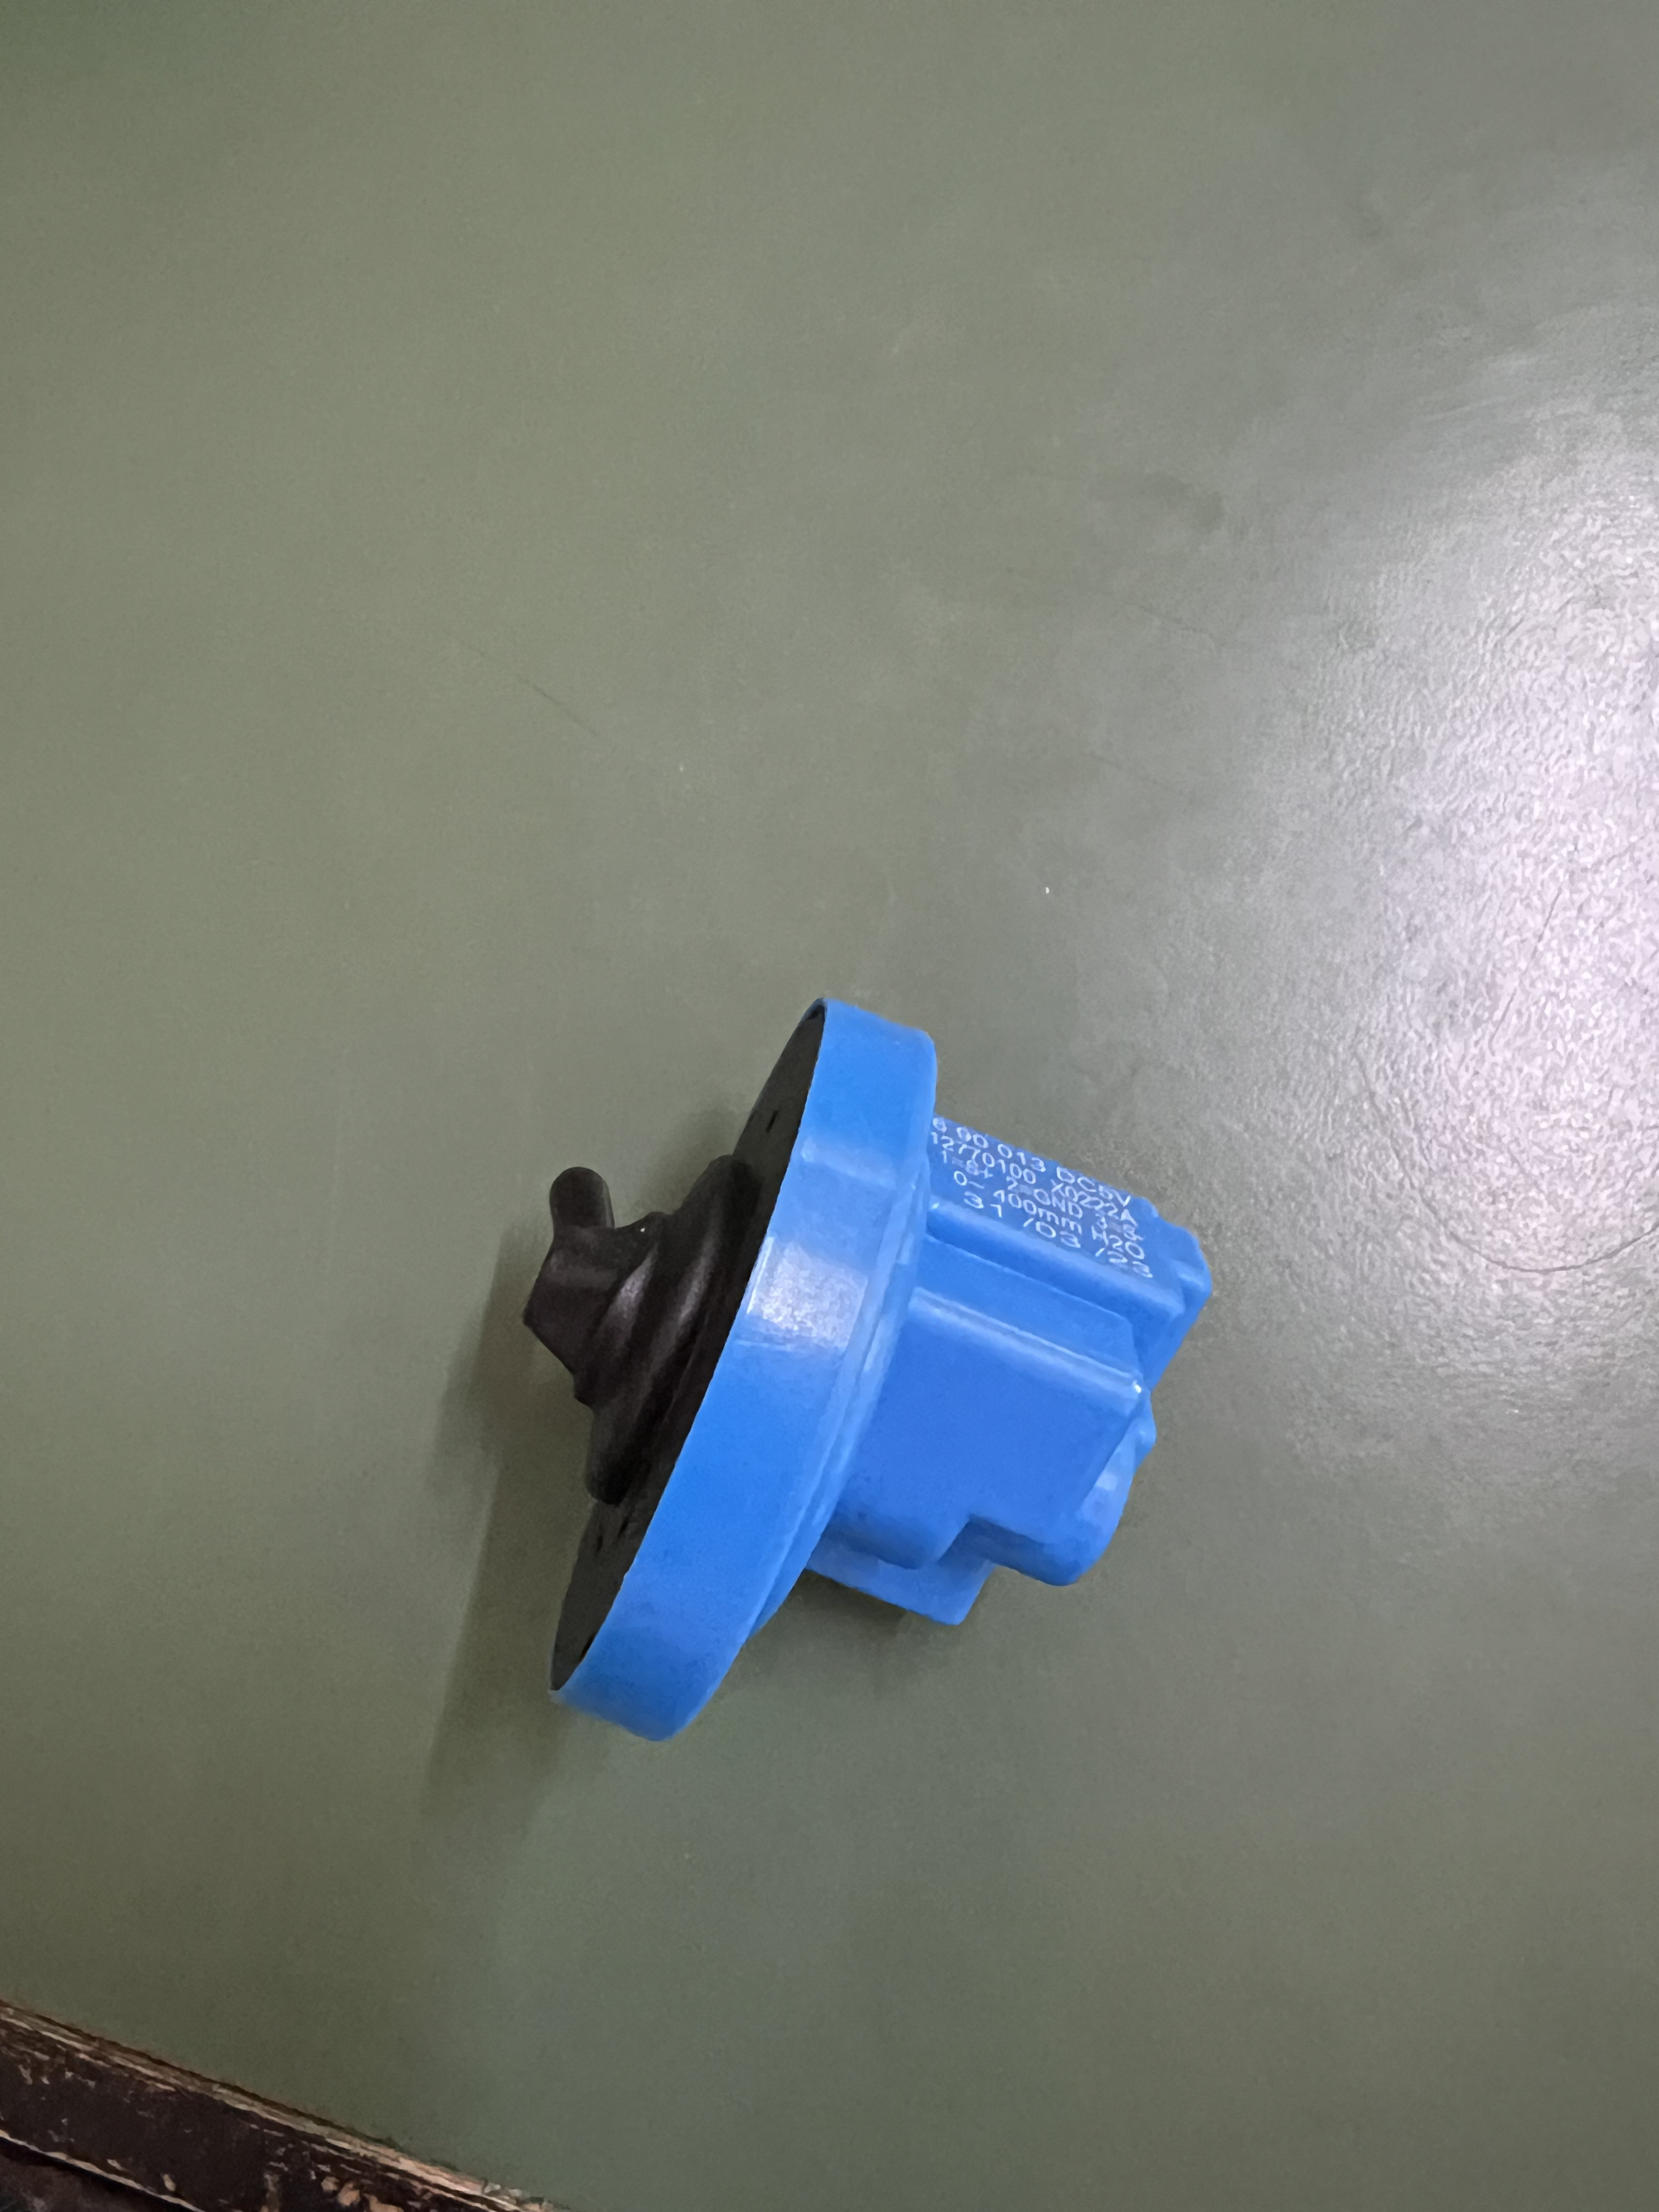voltas_beko_pressure_switch: (488, 993, 1223, 1773)
